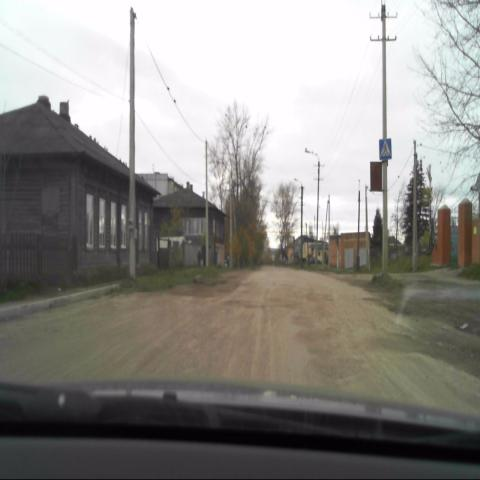5_19_1: (379, 139, 392, 163)
